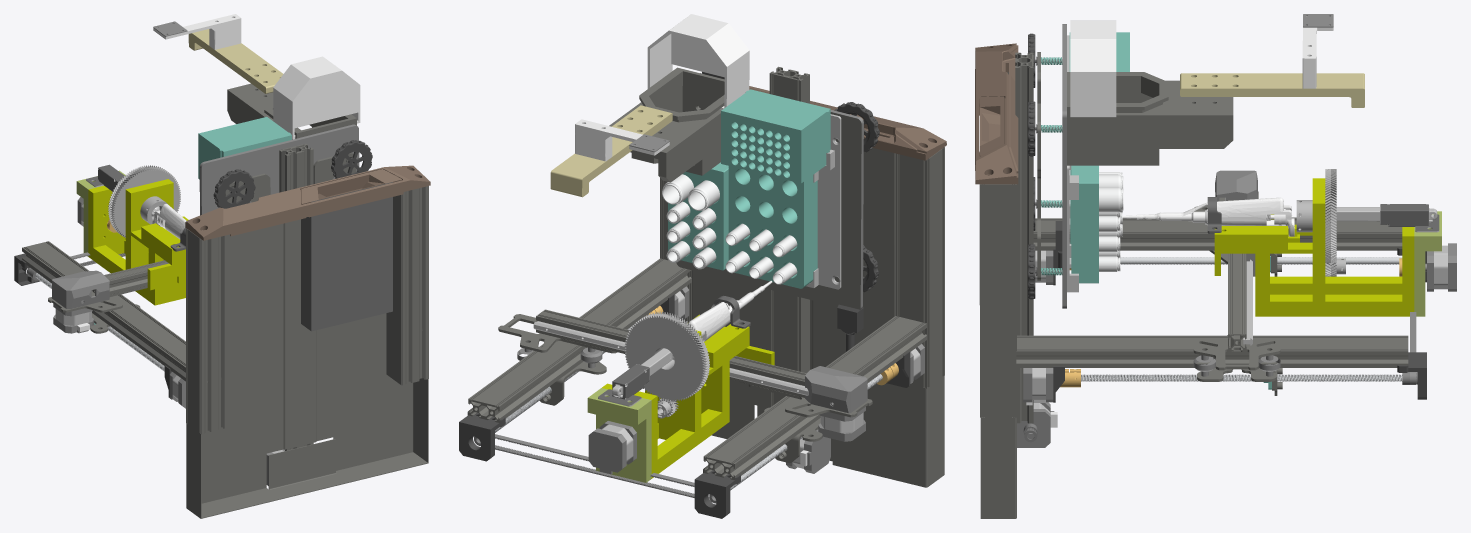
File: heimdall.original.glb
The picture shows the model from 3 angles, left to right: view 1: azimuth 30°, elevation 25°; view 2: azimuth 150°, elevation 25°; view 3: azimuth 270°, elevation 25°; orthographic projection. The views are drawn at different scales.
Visible parts, largest first — view 1: Node5, Node14, Node29, Node22, Node17, Node11, Node30, Node6, Node20, Node15, Node24, Node25 (+2 smaller); view 2: Node5, Node17, Node30, Node26, Node11, Node29, Node18, Node31, Node15, Node24, Node6, Node20 (+9 smaller); view 3: Node5, Node29, Node17, Node22, Node24, Node11, Node20, Node27, Node18, Node31, Node2, Node6 (+10 smaller).
Boxes of the visible parts, x1,y1,x2,y2 form: Node5: (22,83,428,518); Node14: (86,164,392,331); Node29: (88,179,188,305); Node22: (185,165,430,240); Node17: (77,14,360,331); Node11: (52,124,359,485); Node30: (198,117,291,179); Node6: (164,140,372,399); Node20: (188,29,283,93); Node15: (111,167,180,237); Node24: (225,143,350,450); Node25: (55,204,283,453); Node5: (468,67,944,487); Node17: (575,14,912,466); Node30: (721,89,830,183); Node26: (728,166,817,288); Node11: (588,89,924,474); Node29: (602,314,774,478); Node18: (533,114,841,406); Node31: (662,174,797,284); Node15: (624,312,709,401); Node24: (769,66,809,407); Node6: (459,72,910,461); Node20: (550,105,672,197); Node5: (980,52,1408,518); Node29: (1214,178,1414,316); Node17: (1026,16,1333,427); Node22: (975,43,1018,184); Node24: (1015,52,1040,423); Node11: (1012,24,1456,447); Node20: (1180,73,1364,107); Node27: (1071,165,1098,283); Node18: (1067,35,1439,345); Node31: (1099,172,1123,271); Node2: (1081,374,1402,381); Node6: (1028,33,1426,399).
Size of the model in its own units: 454 by 538 by 521.
